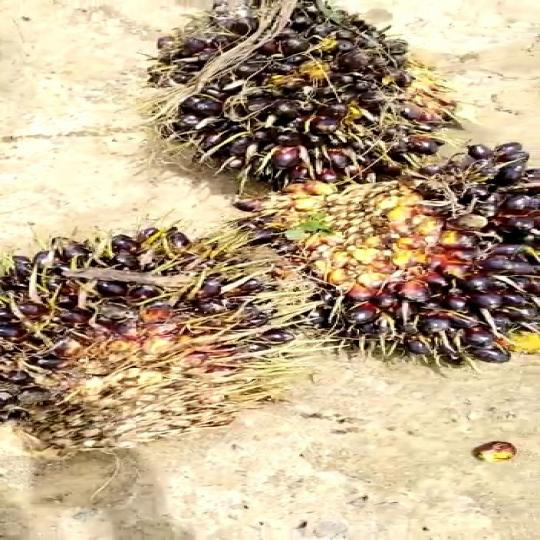mentah: (1, 201, 293, 466), (303, 124, 540, 399), (160, 6, 464, 178)
